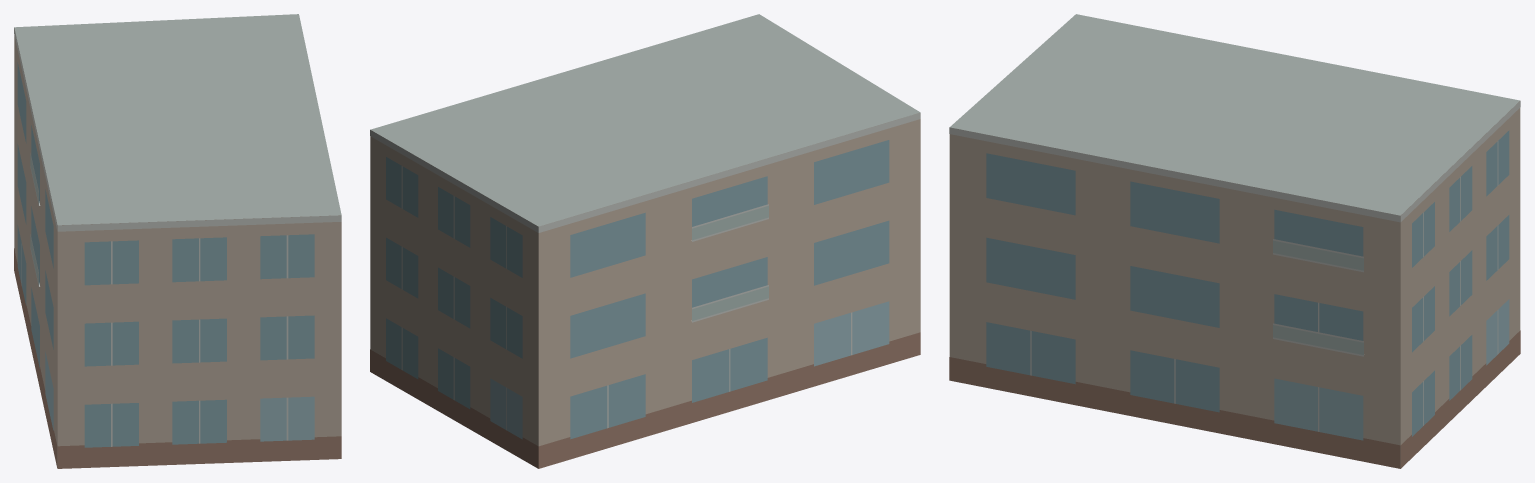
File: survey-upis-32541100.glb
3 renders of one model, left to right at view 1: azimuth 30°, elevation 25°; view 2: azimuth 150°, elevation 25°; view 3: azimuth 270°, elevation 25°, orthographic. The views are drawn at different scales.
Visible parts, largest first — view 1: survey-upis-32541100.tmp; view 2: survey-upis-32541100.tmp; view 3: survey-upis-32541100.tmp.
Boxes of the visible parts, x1,y1,x2,y2 form: survey-upis-32541100.tmp: [14, 14, 341, 468]; survey-upis-32541100.tmp: [370, 14, 920, 468]; survey-upis-32541100.tmp: [949, 14, 1520, 468].
Size of the model in its own units: 15.64 by 9.15 by 18.71.
